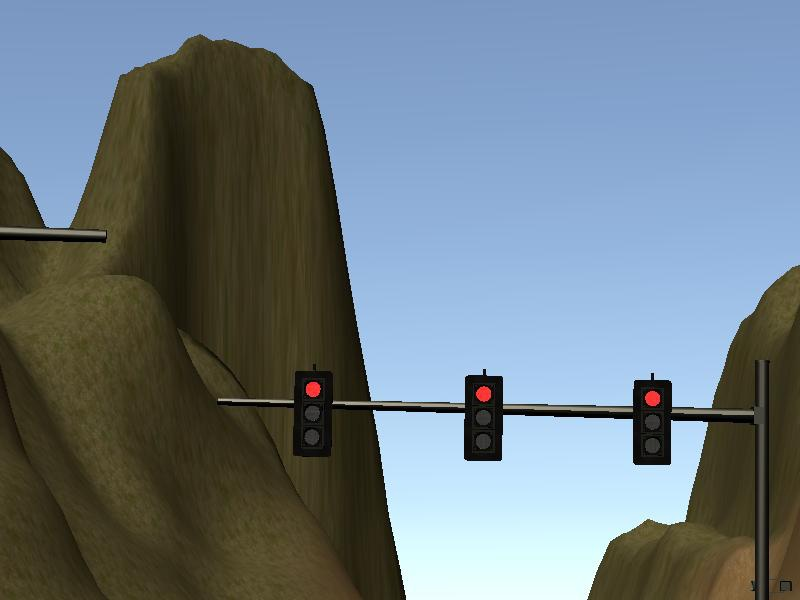red_light: (634, 383, 669, 463), (467, 378, 500, 457), (296, 373, 328, 453)
